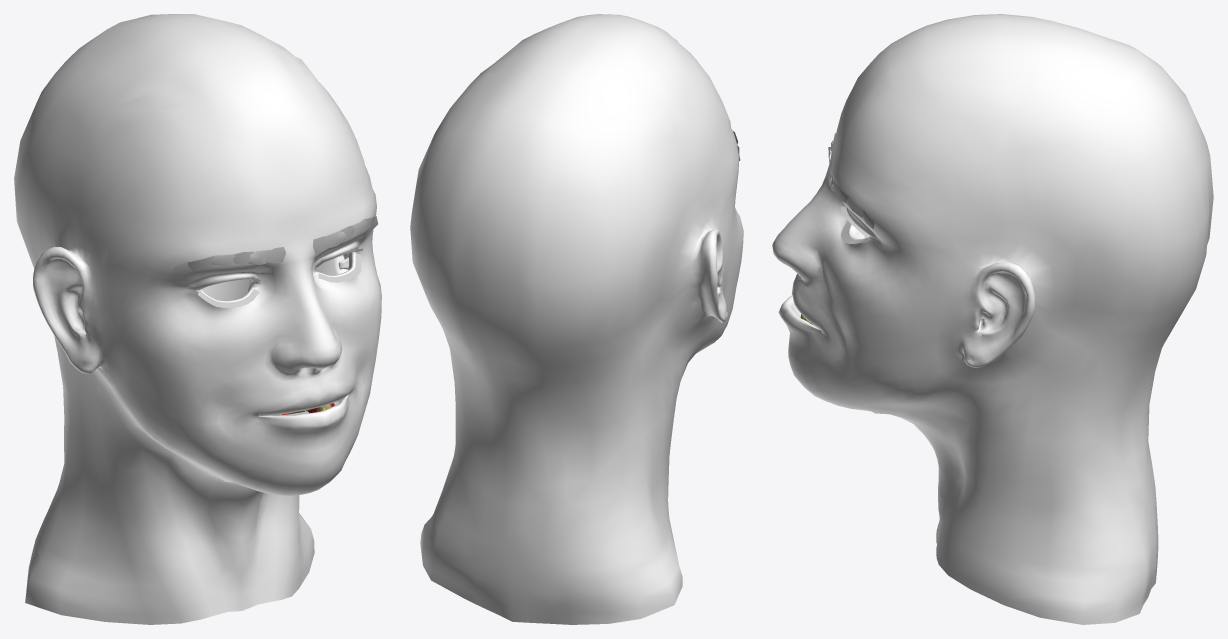
Rendered from jawForward.obj.
3 views of the same model, side by side, from view 1: azimuth 30°, elevation 25°; view 2: azimuth 150°, elevation 25°; view 3: azimuth 270°, elevation 25° (orthographic). The views are drawn at different scales.
Visible parts, largest first — view 1: FaceMesh_Plane.003; view 2: FaceMesh_Plane.003; view 3: FaceMesh_Plane.003.
Boxes of the visible parts, left/top/right/bottom form: FaceMesh_Plane.003: left=14, top=14, right=381, bottom=624; FaceMesh_Plane.003: left=410, top=14, right=743, bottom=624; FaceMesh_Plane.003: left=772, top=14, right=1213, bottom=624.
Size of the model in its own units: 1.54 by 2.71 by 1.95.
Materials: 5 (1 with a texture image).
